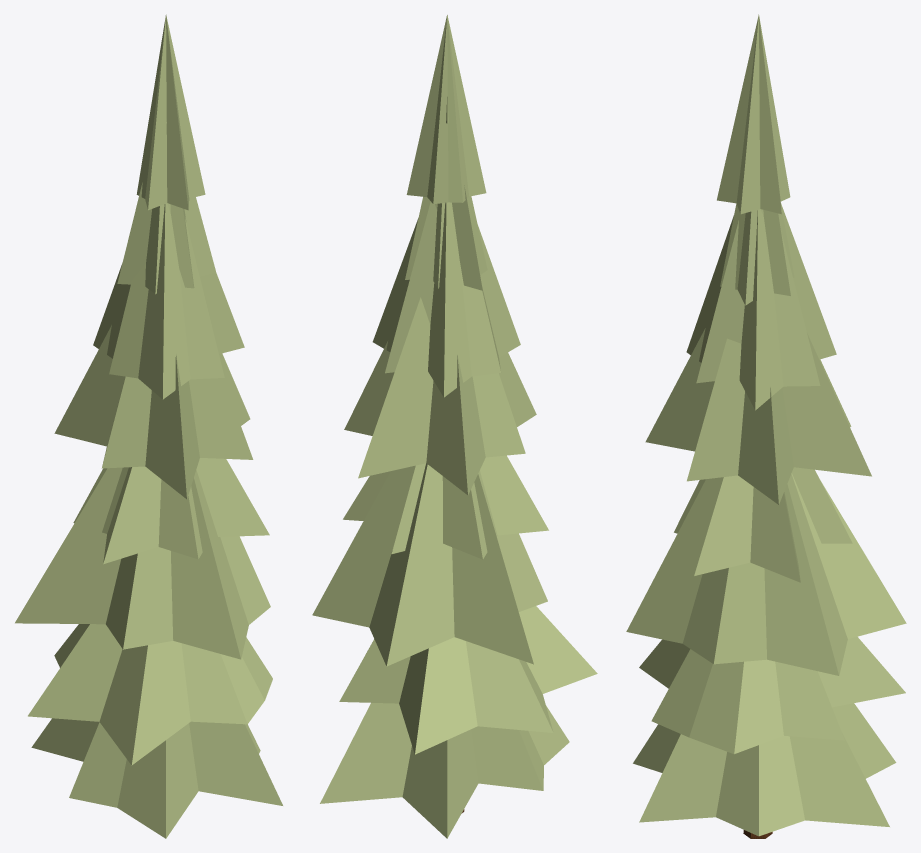
The model's file is dense-temperate-forest-flora-larch-young-0afba6b6__28353.glb.
3 views of the same model, side by side, from view 1: azimuth 30°, elevation 25°; view 2: azimuth 150°, elevation 25°; view 3: azimuth 270°, elevation 25° (orthographic). The views are drawn at different scales.
Visible parts, largest first — view 1: larch-young; view 2: larch-young; view 3: larch-young.
Part boxes in pixels (x1,y1,x2,y2): larch-young: (15,14,282,838); larch-young: (312,15,597,838); larch-young: (626,14,906,838).
Bounding box in the file's own units: 1.1 × 3.84 × 1.19.
Materials: 2 (1 with a texture image).
